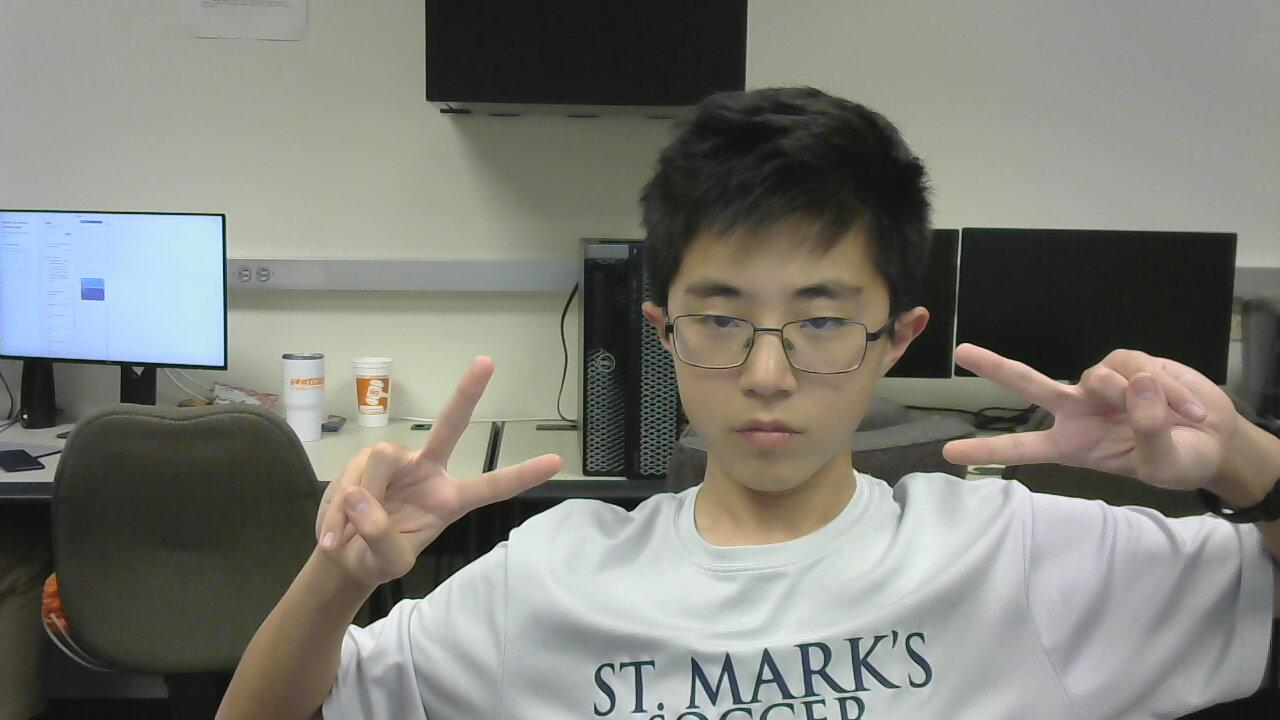peace: (308, 332, 564, 626), (928, 329, 1262, 533)
